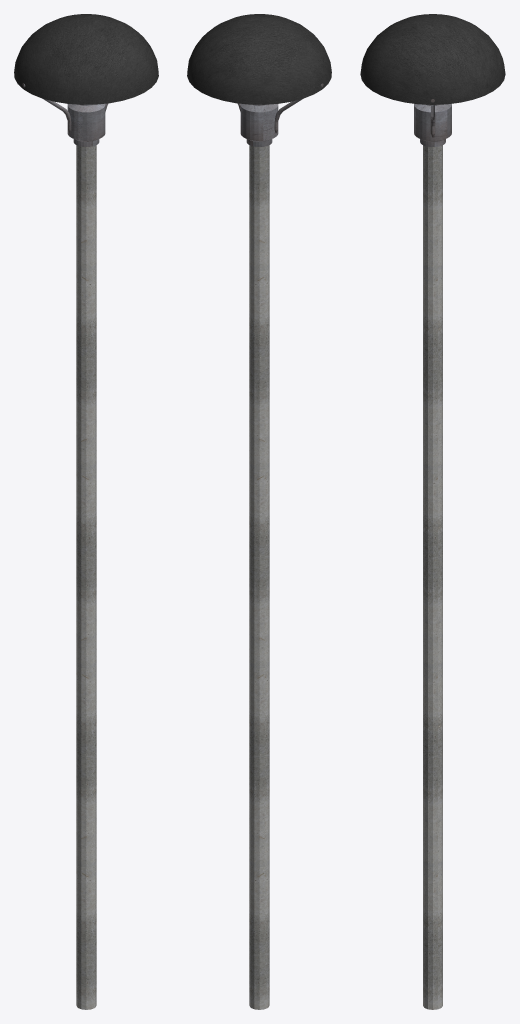
Rendered from pilzleuchte.obj.
The picture shows the model from 3 angles, left to right: view 1: azimuth 30°, elevation 25°; view 2: azimuth 150°, elevation 25°; view 3: azimuth 270°, elevation 25°; orthographic projection.
Visible parts, largest first — view 1: pillar, head; view 2: pillar, head; view 3: pillar, head.
Boxes of the visible parts, left/top/right/bottom form: pillar: left=76, top=145, right=96, bottom=1009; head: left=14, top=14, right=158, bottom=146; pillar: left=249, top=145, right=269, bottom=1009; head: left=187, top=14, right=331, bottom=146; pillar: left=423, top=145, right=442, bottom=1009; head: left=360, top=14, right=505, bottom=146.
Size of the model in its own units: 0.8491 by 6.33 by 0.8464.
1 material, 1 textured.
